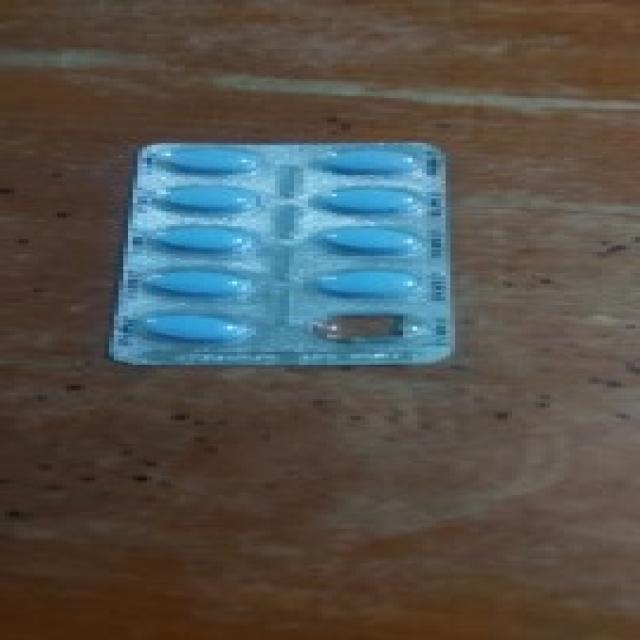Cacat: (126, 142, 450, 372)
Kemasan: (290, 308, 424, 349)
